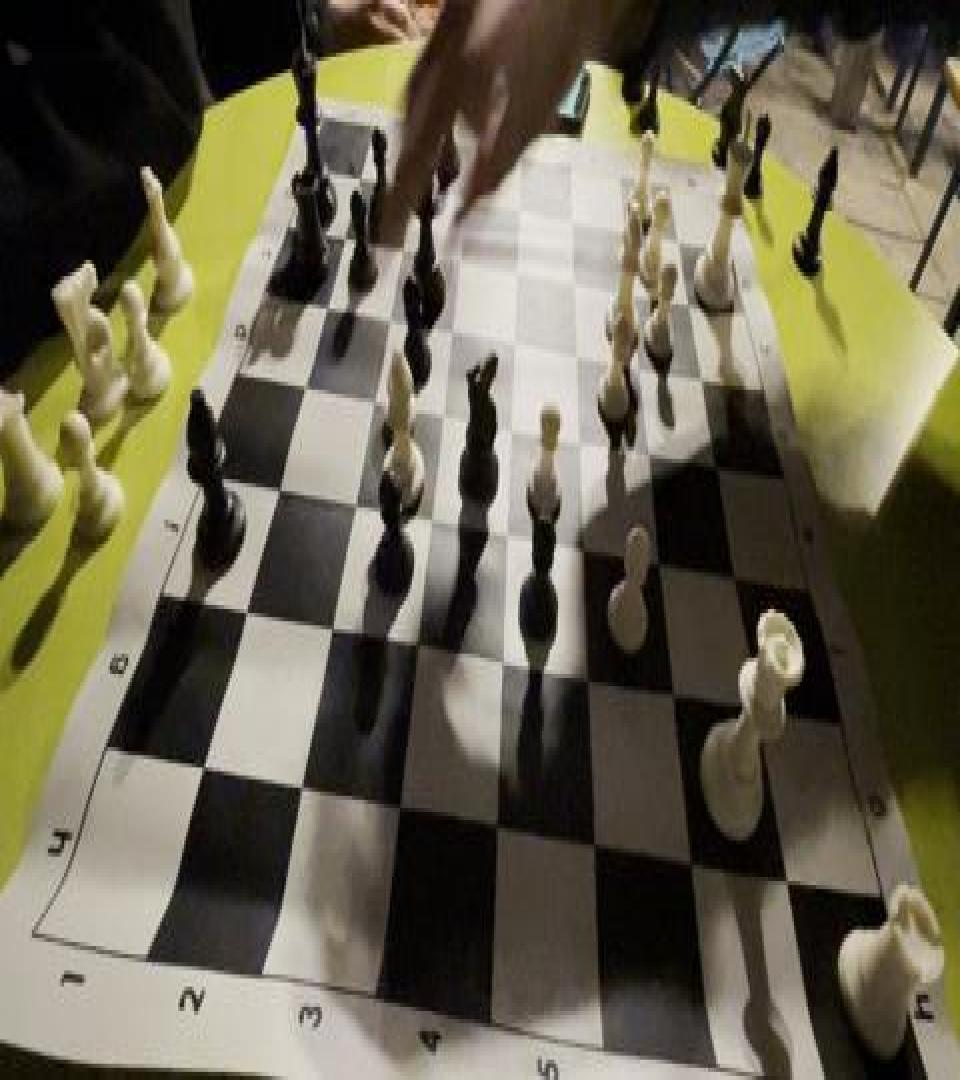xcorner: (290, 749, 312, 794), (389, 765, 411, 810), (679, 810, 701, 855), (774, 826, 796, 871), (406, 605, 428, 650), (492, 619, 514, 664), (577, 633, 599, 678), (420, 481, 442, 526), (496, 493, 518, 538), (292, 355, 314, 400), (568, 404, 590, 449), (636, 416, 658, 461), (703, 428, 725, 473), (314, 274, 336, 319), (377, 286, 399, 331), (688, 343, 710, 388), (332, 207, 354, 252), (390, 219, 412, 264), (447, 229, 469, 274), (675, 270, 697, 315), (347, 150, 369, 195), (401, 160, 423, 205), (612, 201, 634, 246), (665, 209, 687, 254), (191, 733, 213, 777), (486, 780, 508, 824), (583, 796, 605, 840), (233, 577, 255, 621), (320, 591, 342, 635), (661, 648, 683, 692), (745, 662, 767, 706), (266, 455, 288, 499), (343, 467, 365, 511), (572, 506, 594, 550), (647, 520, 669, 564), (722, 532, 744, 576), (362, 368, 384, 412), (431, 380, 453, 424), (500, 392, 522, 436), (440, 299, 462, 343), (503, 309, 525, 353), (565, 321, 587, 365), (627, 331, 649, 375), (505, 240, 527, 284), (562, 250, 584, 294), (619, 260, 641, 304), (454, 171, 476, 215), (507, 181, 529, 225), (560, 191, 582, 235)
